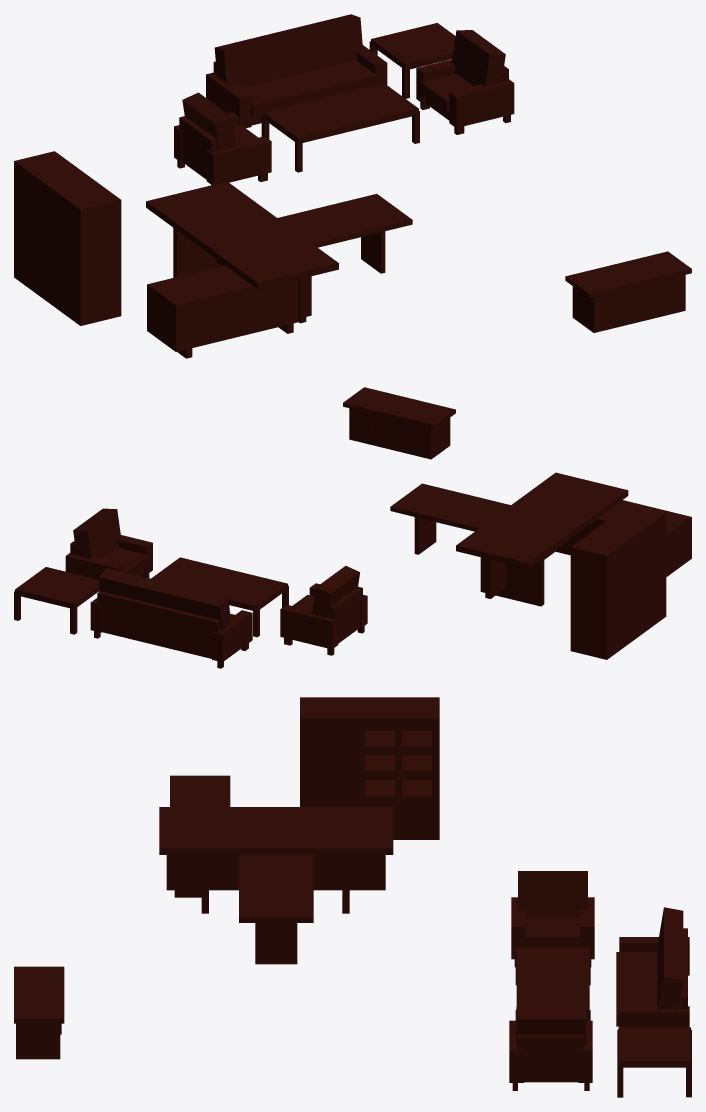
Rendered from boss_room.FBX.
3 views of the same model, one above another, from view 1: azimuth 30°, elevation 25°; view 2: azimuth 150°, elevation 25°; view 3: azimuth 270°, elevation 25° (orthographic). The views are drawn at different scales.
Parts seen in each view (by area): view 1: room_boss_mesh; view 2: room_boss_mesh; view 3: room_boss_mesh.
Boxes of the visible parts, <box> form: room_boss_mesh: <box>14,14,691,358</box>; room_boss_mesh: <box>14,387,691,668</box>; room_boss_mesh: <box>14,697,691,1097</box>.
Bounding box in the file's own units: 11.66 × 11.99 × 2.38.
